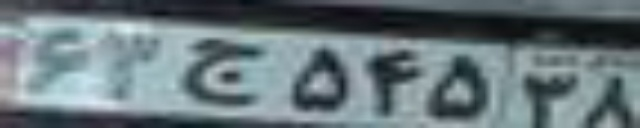3: (99, 32, 164, 101), (29, 26, 85, 95), (520, 69, 578, 126)
4: (364, 48, 422, 116)
5: (427, 52, 493, 119), (283, 48, 352, 110)
8: (583, 73, 635, 127)
jim: (178, 38, 263, 106)
